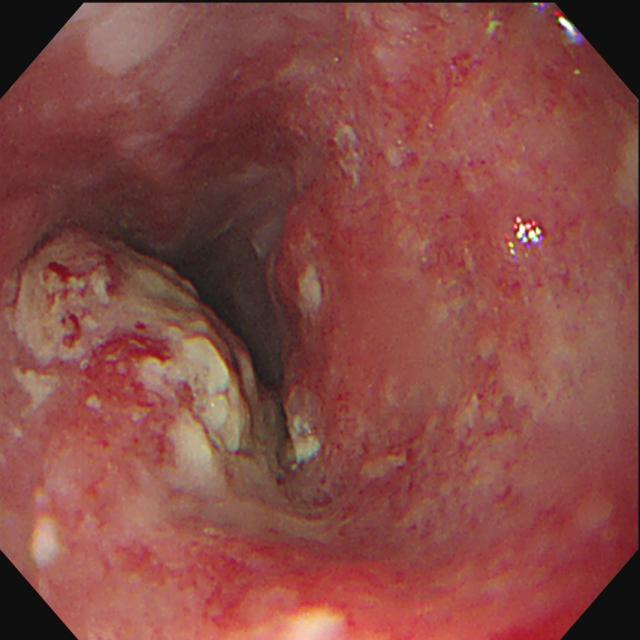B: (276, 55, 509, 556), (2, 222, 275, 640)
U: (514, 217, 546, 252), (557, 13, 583, 42)
